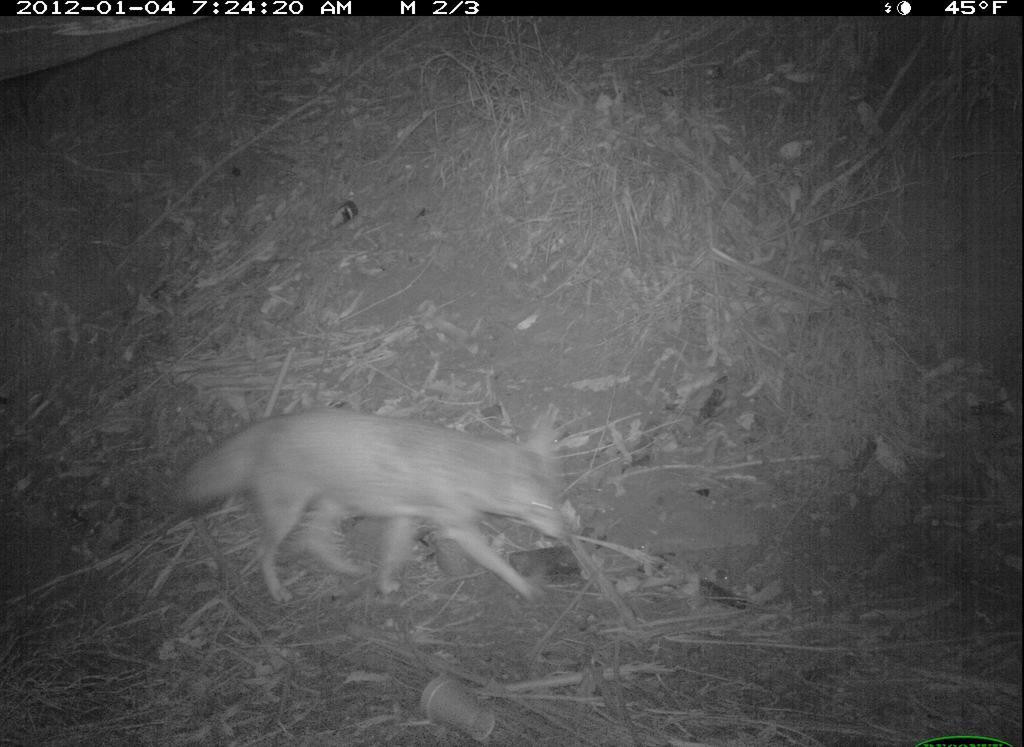coyote: (168, 395, 596, 621)
